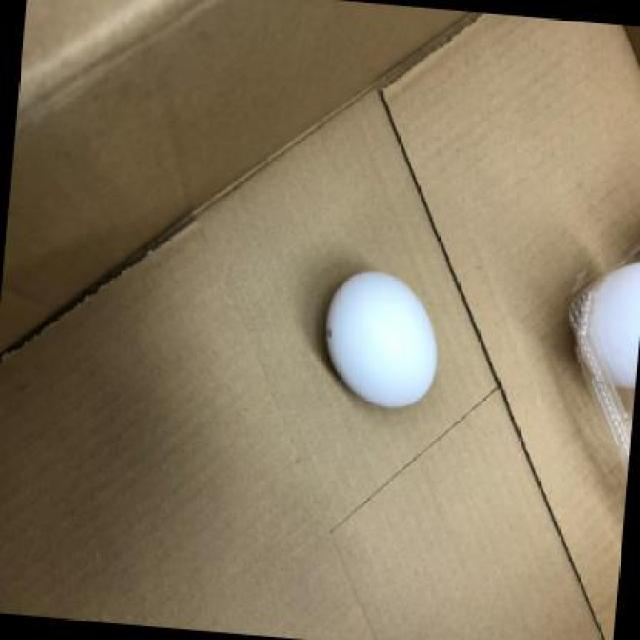egg: (322, 267, 441, 421)
